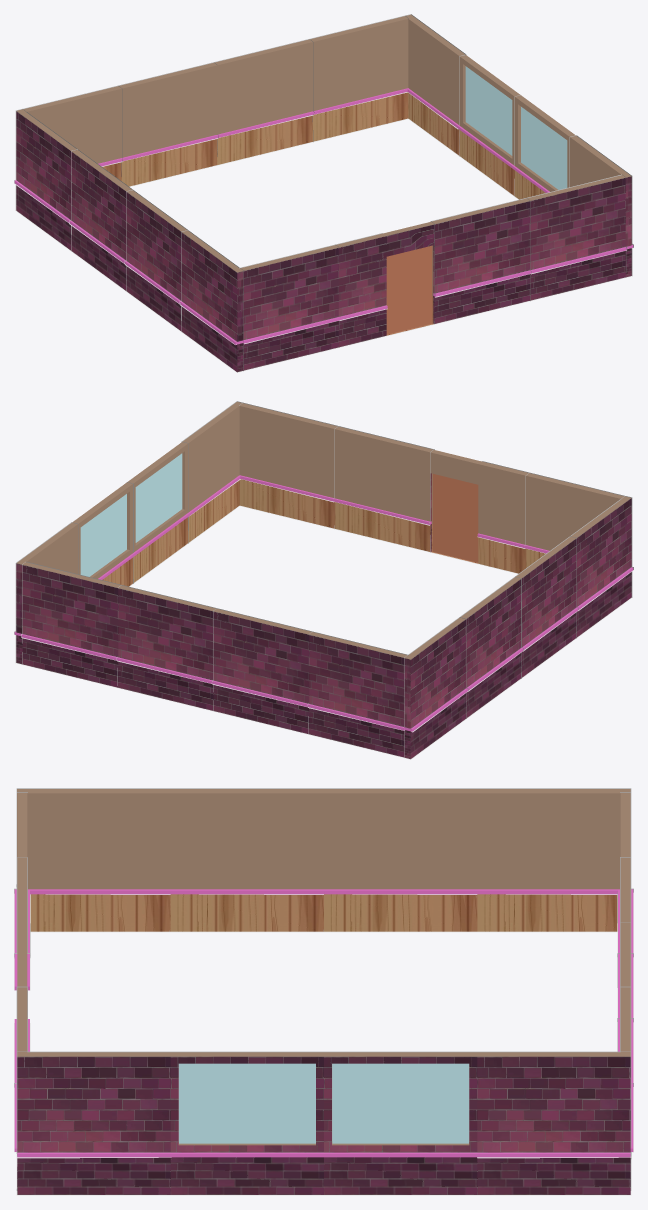
File: estructura basica2.glb
3 views of the same model, one above another, from view 1: azimuth 30°, elevation 25°; view 2: azimuth 150°, elevation 25°; view 3: azimuth 270°, elevation 25° (orthographic). The views are drawn at different scales.
Parts seen in each view (by area): view 1: Cube.011, Cube.003, Cube.004, Cube.001, Cube.009, Cube.012, Cube.013, Cube.014, Cube.015, Cube.016, Cube.006, Cube.005 (+4 smaller); view 2: Cube.011, Cube.001, Cube.004, Cube.009, Cube, Cube.003, Cube.014, Cube.013, Cube.016, Cube.007, Cube.015, Cube.008 (+4 smaller); view 3: Cube.005, Cube.008, Cube.016, Cube.007, Cube.015, Cube.006, Cube.013, Cube.014, Cube.011, Cube.012, Cube, Cube.001 (+3 smaller).
Part boxes in pixels (x1=…): Cube.011: x1=335, y1=198, x2=531, y2=347; Cube.003: x1=213, y1=39, x2=314, y2=165; Cube.004: x1=309, y1=15, x2=408, y2=141; Cube.001: x1=118, y1=62, x2=218, y2=186; Cube.009: x1=526, y1=174, x2=627, y2=301; Cube.012: x1=239, y1=244, x2=339, y2=370; Cube.013: x1=179, y1=230, x2=243, y2=372; Cube.014: x1=14, y1=109, x2=78, y2=251; Cube.015: x1=124, y1=189, x2=187, y2=331; Cube.016: x1=69, y1=149, x2=133, y2=291; Cube.006: x1=458, y1=54, x2=520, y2=197; Cube.005: x1=405, y1=14, x2=465, y2=156; Cube.011: x1=333, y1=426, x2=529, y2=573; Cube.001: x1=212, y1=608, x2=312, y2=734; Cube.004: x1=21, y1=561, x2=121, y2=687; Cube.009: x1=239, y1=402, x2=339, y2=529; Cube: x1=307, y1=631, x2=408, y2=757; Cube.003: x1=116, y1=585, x2=216, y2=711; Cube.014: x1=404, y1=617, x2=468, y2=759; Cube.013: x1=569, y1=496, x2=633, y2=638; Cube.016: x1=460, y1=576, x2=523, y2=718; Cube.007: x1=127, y1=441, x2=189, y2=584; Cube.015: x1=515, y1=536, x2=578, y2=678; Cube.008: x1=181, y1=401, x2=242, y2=543; Cube.005: x1=476, y1=1051, x2=631, y2=1195; Cube.008: x1=16, y1=1051, x2=171, y2=1195; Cube.016: x1=323, y1=788, x2=477, y2=932; Cube.007: x1=170, y1=1051, x2=324, y2=1195; Cube.015: x1=169, y1=788, x2=324, y2=932; Cube.006: x1=324, y1=1051, x2=477, y2=1195; Cube.013: x1=16, y1=788, x2=170, y2=932; Cube.014: x1=476, y1=788, x2=631, y2=932; Cube.011: x1=14, y1=857, x2=30, y2=1087; Cube.012: x1=14, y1=792, x2=30, y2=957; Cube: x1=617, y1=792, x2=633, y2=954; Cube.001: x1=617, y1=857, x2=633, y2=1018.
Size of the model in its own units: 12.56 by 3.02 by 12.17.
Materials: 7 (6 with a texture image).
